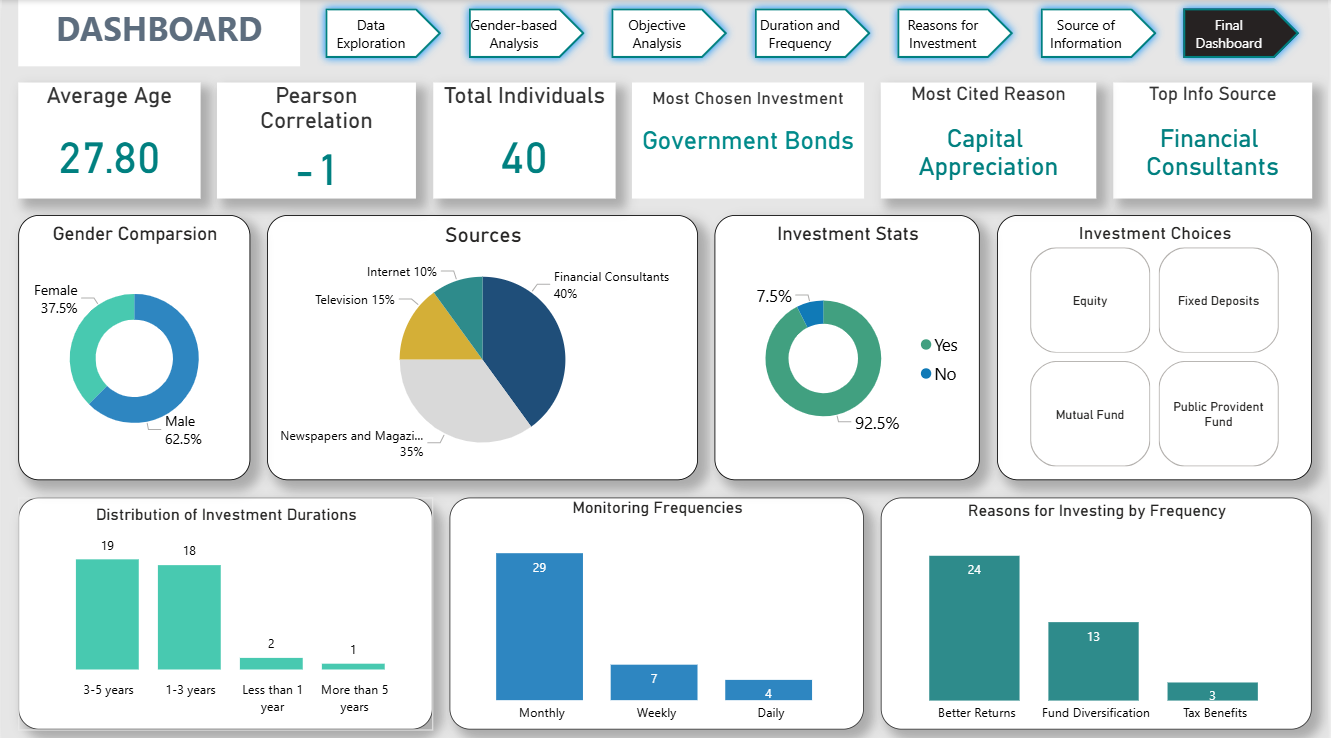

This screenshot's page, from the dashboard's own definition file:
{"tool":"powerbi","page":{"name":"Final Dashboard","canvas":[1280,720],"ordinal":6},"visuals":[{"type":"card","title":"Average Age","fields":{"Values":["Data_set 2 (1).Avg_age"]},"box":[16,80,176,112],"z":0},{"type":"pieChart","title":"Sources","fields":{"Category":["Data_set 2 (1).Source"],"Y":["CountNonNull(Data_set 2 (1).Source)"]},"box":[256,208,416,256],"z":1000},{"type":"clusteredColumnChart","title":"Distribution of Investment Durations","fields":{"Category":["Data_set 2 (1).Duration"],"Y":["CountNonNull(Data_set 2 (1).Avenue)"]},"box":[16,480,400,224],"z":2000},{"type":"card","title":"Pearson Correlation","fields":{"Values":["Data_set 2 (1).Correlation"]},"box":[208,80,192,112],"z":3000},{"type":"clusteredColumnChart","title":"Monitoring Frequencies","fields":{"Category":["Data_set 2 (1).Invest_Monitor"],"Y":["CountNonNull(Data_set 2 (1).Avenue)"]},"box":[432,480,400,224],"z":4000},{"type":"card","title":"Total Individuals","fields":{"Values":["CountNonNull(Data_set 2 (1).gender)"]},"box":[416,80,176,112],"z":5000},{"type":"textbox","box":[608,80,224,112],"z":6000},{"type":"donutChart","title":"Gender Comparsion","fields":{"Category":["Data_set 2 (1).gender"],"Y":["CountNonNull(Data_set 2 (1).gender (groups))"]},"box":[16,208,224,256],"z":7000},{"type":"advancedSlicerVisual","title":"Investment Choices","fields":{"Values":["Data_set 2 (1).Avenue"]},"box":[960,208,304,256],"z":8000},{"type":"donutChart","title":"Investment Stats","fields":{"Category":["Data_set 2 (1).Investment_Avenues"],"Y":["Divide(CountNonNull(Data_set 2 (1).gender), ScopedEval(CountNonNull(Data_set 2 (1).gender), []))"]},"box":[688,208,256,256],"z":9000},{"type":"clusteredColumnChart","title":"Reasons for Investing by Frequency","fields":{"Category":["Data_set 2 (1).Reason_Mutual"],"Y":["CountNonNull(Data_set 2 (1).Reason_FD)"]},"box":[848,480,416,224],"z":10000},{"type":"card","title":"Top Info Source","fields":{"Values":["Min(Data_set 2 (1).Source)"]},"box":[1072,80,192,112],"z":11000},{"type":"card","title":"Most Cited Reason","fields":{"Values":["Min(Data_set 2 (1).Reason_Equity)"]},"box":[848,80,208,112],"z":12000},{"type":"pageNavigator","box":[304,0,960,64],"z":13000},{"type":"textbox","box":[16,0,272,64],"z":13001}]}

Visuals, with their boxes in screenshot pixels (x1, y1, x2, y2), scaled from the page's 1280x720 canvas onto the 1331x738 screenshot:
"Average Age" card: BBox(17, 82, 200, 197)
"Sources" pieChart: BBox(266, 213, 699, 476)
"Distribution of Investment Durations" clusteredColumnChart: BBox(17, 492, 433, 722)
"Pearson Correlation" card: BBox(216, 82, 416, 197)
"Monitoring Frequencies" clusteredColumnChart: BBox(449, 492, 865, 722)
"Total Individuals" card: BBox(433, 82, 616, 197)
textbox: BBox(632, 82, 865, 197)
"Gender Comparsion" donutChart: BBox(17, 213, 250, 476)
"Investment Choices" advancedSlicerVisual: BBox(998, 213, 1314, 476)
"Investment Stats" donutChart: BBox(715, 213, 982, 476)
"Reasons for Investing by Frequency" clusteredColumnChart: BBox(882, 492, 1314, 722)
"Top Info Source" card: BBox(1115, 82, 1314, 197)
"Most Cited Reason" card: BBox(882, 82, 1098, 197)
pageNavigator: BBox(316, 0, 1314, 66)
textbox: BBox(17, 0, 299, 66)
